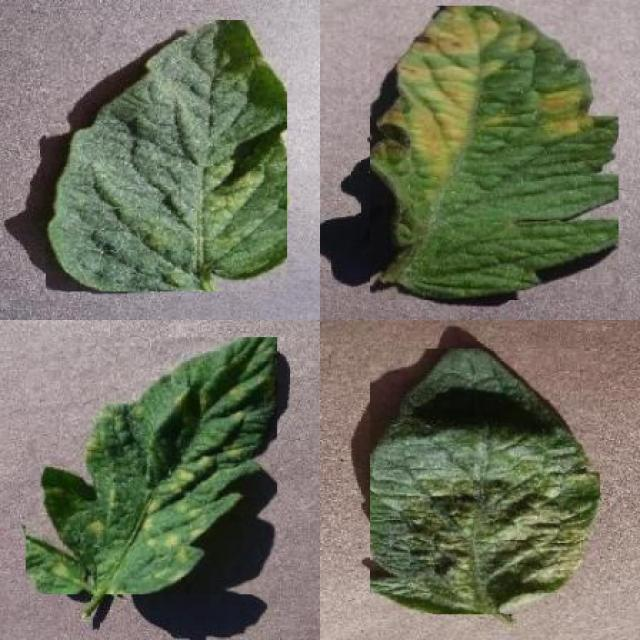Leaf Mold: (370, 6, 619, 300), (26, 338, 278, 595)
Spider Mites: (46, 21, 287, 292), (370, 349, 600, 614)
